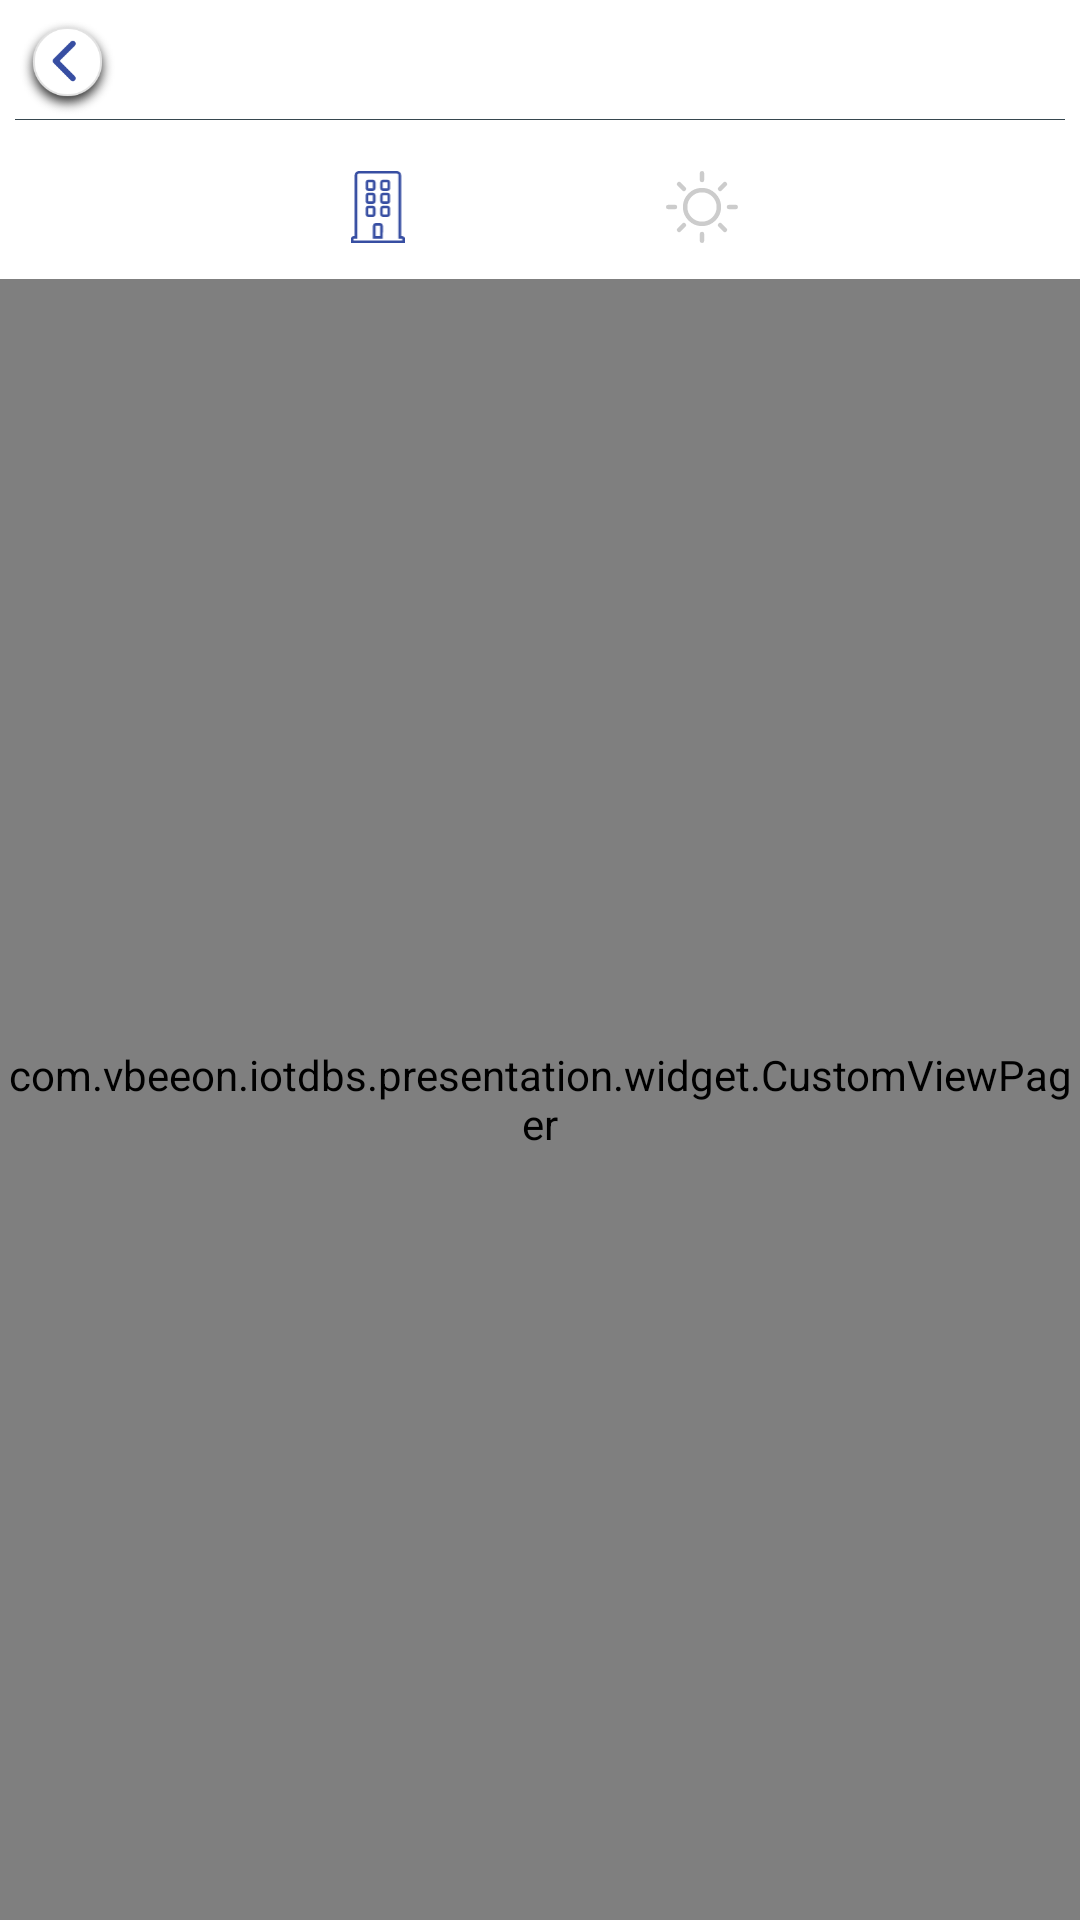

Point at icon controls on the screen. Image size 1080 × 1920, points as [x,y].
back circle: [67,67]
